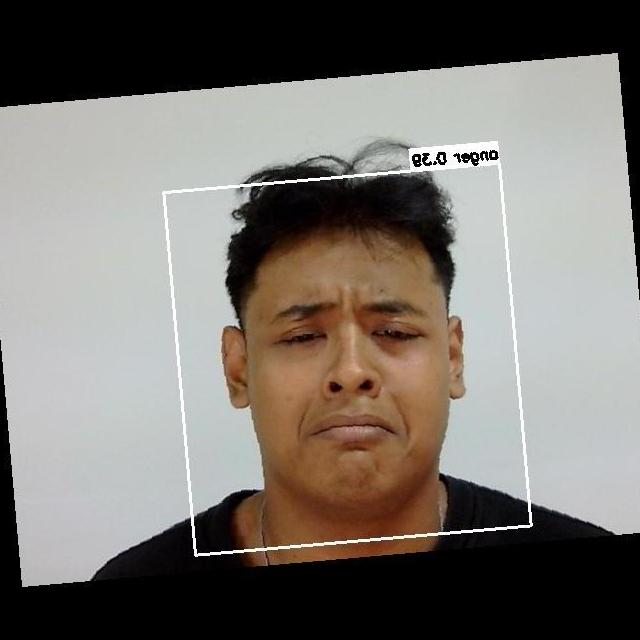Sad: (241, 261, 468, 481)
